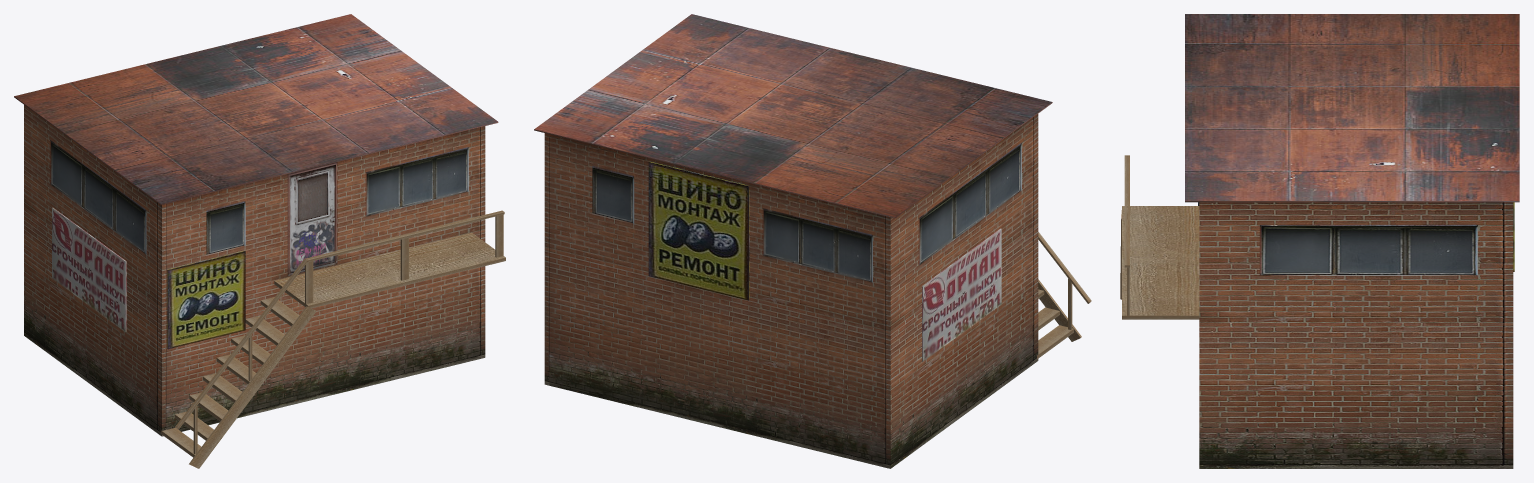
The model's file is omsk_avtomagazin10.FBX.
3 views of the same model, side by side, from view 1: azimuth 30°, elevation 25°; view 2: azimuth 150°, elevation 25°; view 3: azimuth 270°, elevation 25° (orthographic). The views are drawn at different scales.
Parts seen in each view (by area): view 1: omsk_avtomagazin10; view 2: omsk_avtomagazin10; view 3: omsk_avtomagazin10.
Part boxes in pixels (x1,y1,x2,y2): omsk_avtomagazin10: (14,14,505,468); omsk_avtomagazin10: (534,14,1091,468); omsk_avtomagazin10: (1120,14,1519,468).
Size of the model in its own units: 7.03 by 6.16 by 4.77.
